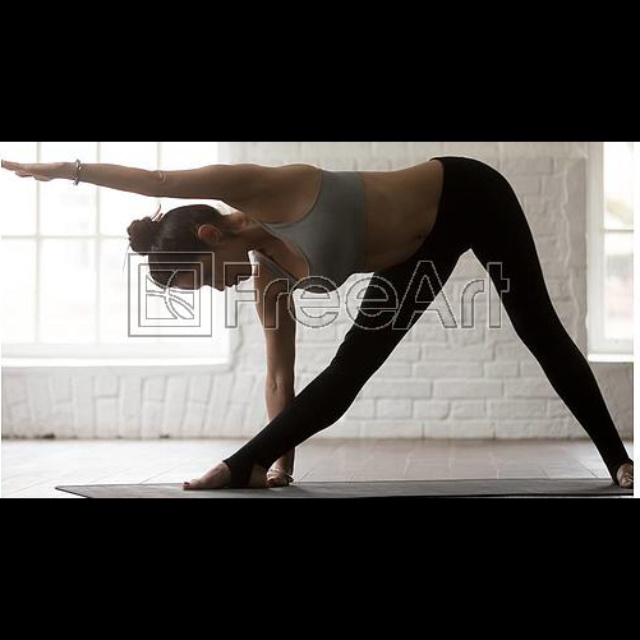Triangle_Pose: (3, 147, 636, 499)
